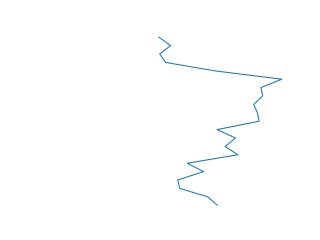floodPlain: (157, 35, 285, 207)
